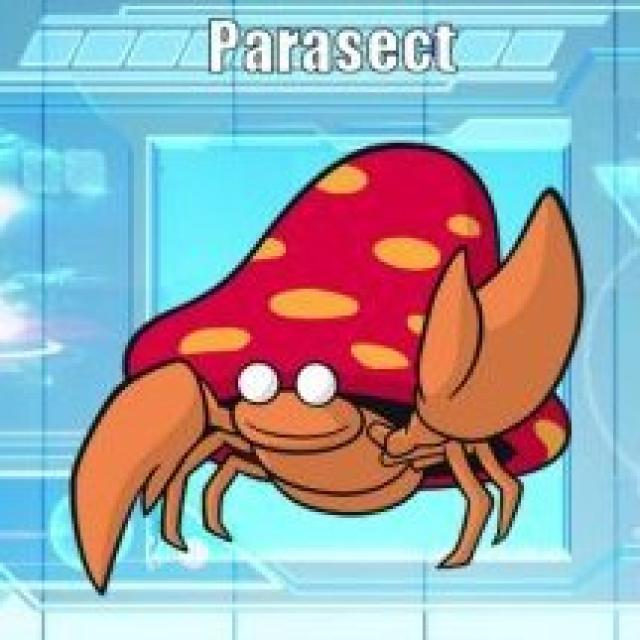Parasect: (79, 132, 586, 598)
